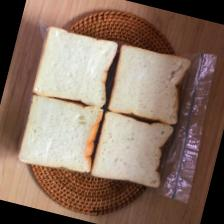bread: (28, 24, 119, 110), (103, 41, 192, 127), (14, 91, 102, 177), (88, 109, 174, 192)
